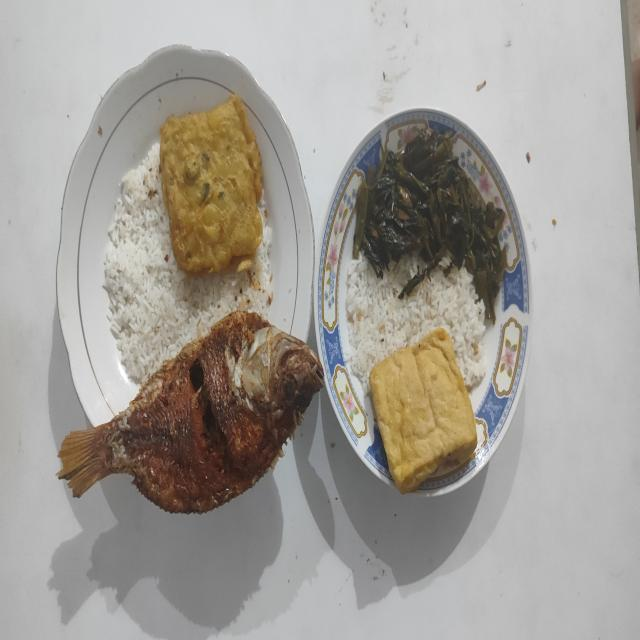ikan_mujair: (58, 311, 323, 513)
nasi_putih: (104, 144, 274, 386), (344, 252, 486, 393)
tahu_goreng: (369, 328, 476, 492)
tumis_kangkung: (353, 128, 506, 324)
